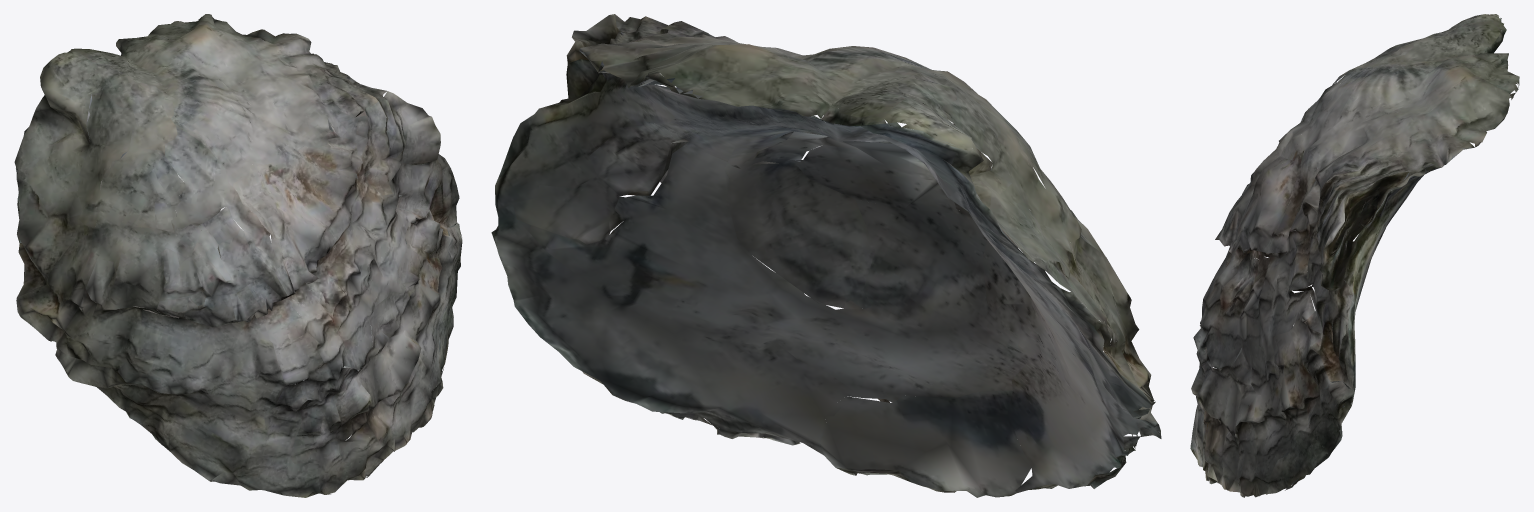
File: seashell.glb
3 views of the same model, side by side, from view 1: azimuth 30°, elevation 25°; view 2: azimuth 150°, elevation 25°; view 3: azimuth 270°, elevation 25° (orthographic). The views are drawn at different scales.
Visible parts, largest first — view 1: Object_4, Object_3; view 2: Object_3, Object_4; view 3: Object_3, Object_4.
Part boxes in pixels (x1,y1,x2,y2): Object_4: (14,17,459,497); Object_3: (16,14,462,497); Object_3: (491,14,1155,496); Object_4: (542,14,1161,497); Object_3: (1190,14,1519,496); Object_4: (1190,18,1519,497).
Bounding box in the file's own units: 0.981 × 0.8145 × 0.6228.
Materials: 2 (2 with a texture image).
